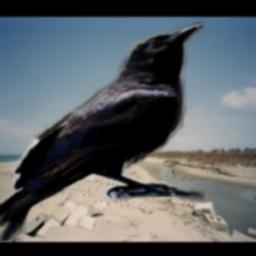Crow: (0, 23, 203, 242)
